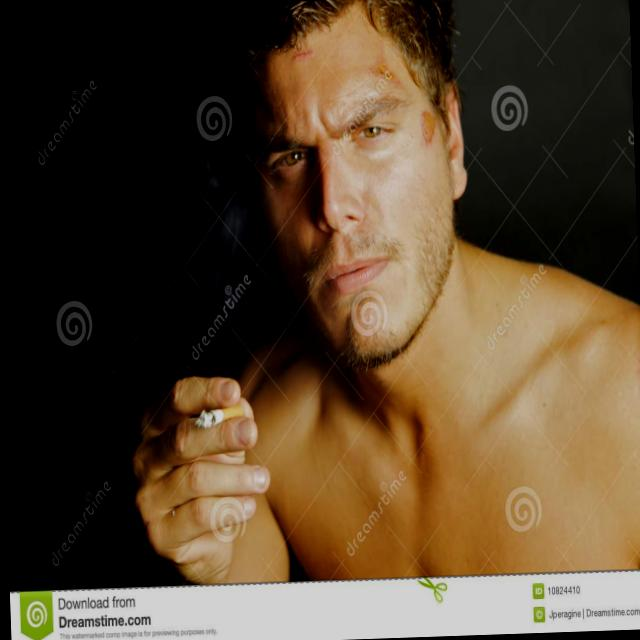smoke: (177, 400, 256, 436)
